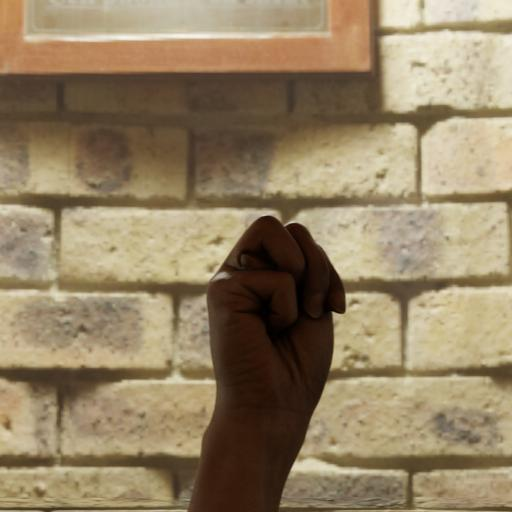M: (198, 207, 352, 441)
